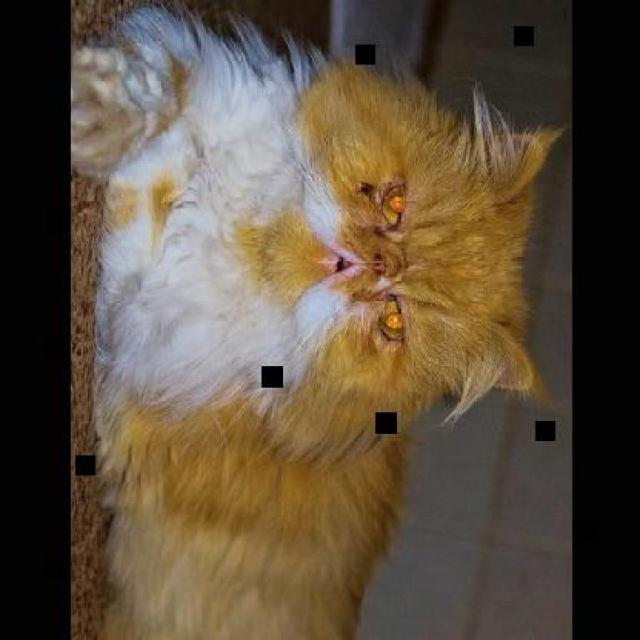unauthorized: (70, 0, 563, 638)
